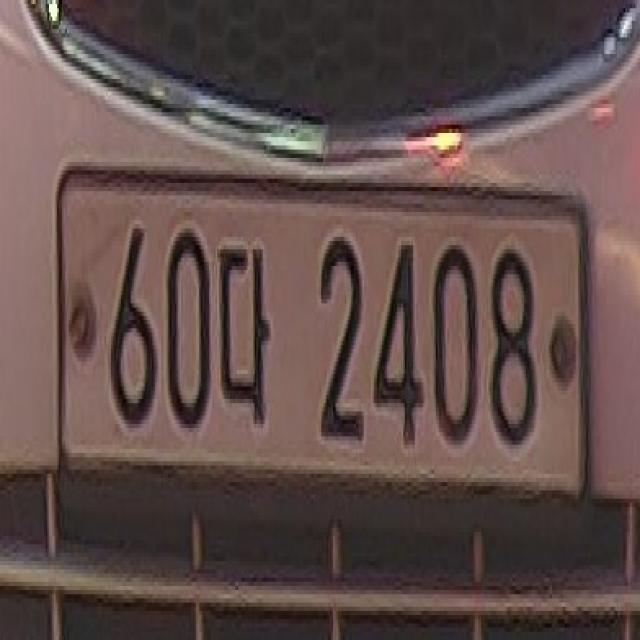0: (431, 220, 484, 456), (160, 215, 216, 438)
2: (313, 222, 368, 456)
4: (371, 220, 428, 455)
6: (106, 213, 160, 434)
8: (487, 220, 544, 456)
da: (218, 220, 275, 438)
license_plate: (51, 142, 598, 533)
